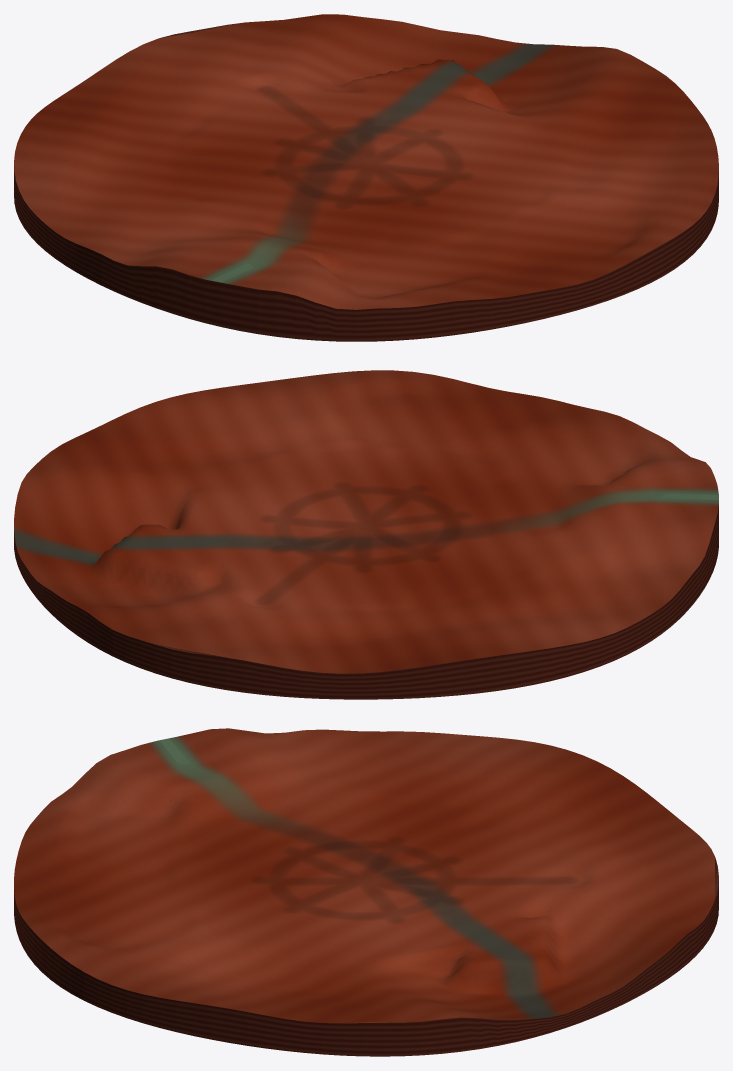
Rendered from basin-rim-plate.glb.
3 views of the same model, one above another, from view 1: azimuth 30°, elevation 25°; view 2: azimuth 150°, elevation 25°; view 3: azimuth 270°, elevation 25° (orthographic).
Visible parts, largest first — view 1: BasinRimPlate; view 2: BasinRimPlate; view 3: BasinRimPlate.
Boxes of the visible parts, x1,y1,x2,y2 form: BasinRimPlate: [14, 14, 718, 341]; BasinRimPlate: [14, 370, 718, 699]; BasinRimPlate: [14, 728, 718, 1056].
Bounding box in the file's own units: 49.68 × 3.6 × 49.6.
Materials: 1 (1 with a texture image).
